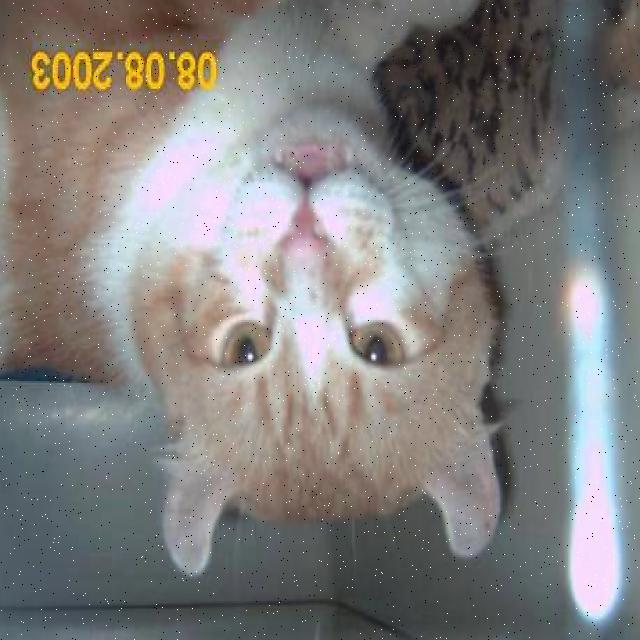Cat: (104, 103, 513, 578)
